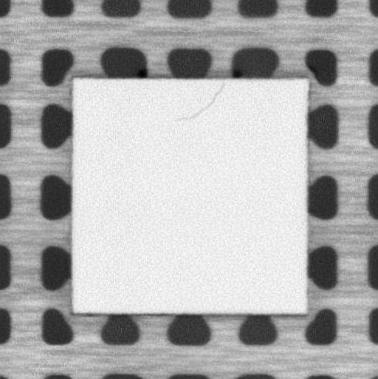DIE_CRACK: (174, 82, 226, 123)
